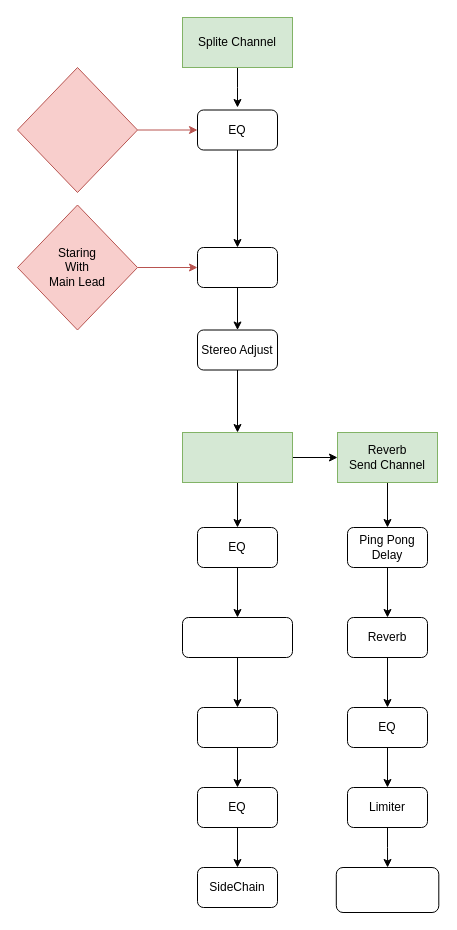
Image size: 457x930. Some labels were removed from this diagram. Here are the shapes that lost their labels. From the top down, the centre of each, then its label:
At point (77, 129): "Dont Cut Too Much On Main Lead".
At point (237, 267): "Gain Staging".
At point (237, 457): "Lead Bus".
At point (237, 637): "SoundGoodizer".
At point (237, 727): "OTT".
At point (387, 889): "Volume Control".
